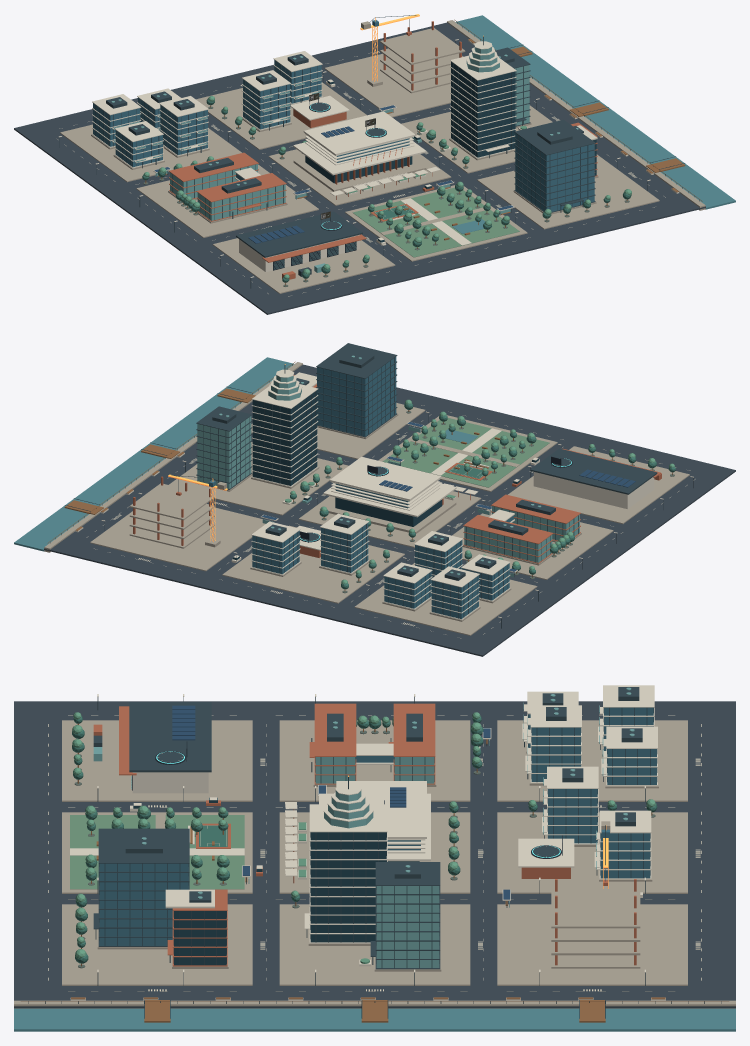
File: CampusDistrict.glb
3 views of the same model, one above another, from view 1: azimuth 30°, elevation 25°; view 2: azimuth 150°, elevation 25°; view 3: azimuth 270°, elevation 25° (orthographic). The views are drawn at different scales.
Parts seen in each view (by area): view 1: Streets_road, Streets_concrete, Residential_glass, Waterfront_water, Residential_porcelain, Commercial_trim, Library_porcelain, Commercial_darkglass, Commercial_glass, Park_grass, Construction_concrete, Logistics_trim (+21 smaller); view 2: Streets_road, Streets_concrete, Residential_glass, Commercial_trim, Waterfront_water, Residential_porcelain, Commercial_darkglass, Library_porcelain, Commercial_glass, Construction_concrete, Park_grass, Commercial_glasslight (+18 smaller); view 3: Streets_road, Streets_concrete, Waterfront_water, Commercial_trim, Commercial_darkglass, Residential_porcelain, Residential_glass, Construction_concrete, Commercial_glass, Commercial_glasslight, Logistics_trim, Waterfront_concrete (+23 smaller).
Part boxes in pixels (bbox=[...]): Streets_road: bbox=[14, 22, 705, 314]; Streets_concrete: bbox=[60, 53, 659, 293]; Residential_glass: bbox=[93, 60, 321, 167]; Waterfront_water: bbox=[456, 15, 735, 209]; Residential_porcelain: bbox=[92, 51, 349, 168]; Commercial_trim: bbox=[453, 36, 595, 212]; Library_porcelain: bbox=[293, 111, 426, 195]; Commercial_darkglass: bbox=[451, 61, 596, 175]; Commercial_glass: bbox=[515, 133, 594, 211]; Park_grass: bbox=[352, 187, 519, 257]; Construction_concrete: bbox=[367, 28, 465, 93]; Logistics_trim: bbox=[236, 211, 362, 276]; Streets_road: bbox=[44, 364, 735, 656]; Streets_concrete: bbox=[90, 403, 689, 635]; Residential_glass: bbox=[252, 523, 509, 618]; Commercial_trim: bbox=[196, 343, 397, 489]; Waterfront_water: bbox=[14, 357, 293, 551]; Residential_porcelain: bbox=[251, 513, 510, 619]; Commercial_darkglass: bbox=[252, 387, 317, 485]; Library_porcelain: bbox=[323, 456, 456, 517]; Commercial_glass: bbox=[317, 357, 396, 436]; Construction_concrete: bbox=[129, 483, 220, 548]; Park_grass: bbox=[382, 418, 549, 487]; Commercial_glasslight: bbox=[197, 355, 361, 488]; Streets_road: bbox=[14, 701, 735, 1008]; Streets_concrete: bbox=[62, 720, 687, 985]; Waterfront_water: bbox=[14, 1008, 735, 1031]; Commercial_trim: bbox=[93, 777, 440, 969]; Commercial_darkglass: bbox=[174, 832, 386, 965]; Residential_porcelain: bbox=[518, 685, 657, 879]; Residential_glass: bbox=[528, 707, 656, 878]; Construction_concrete: bbox=[551, 889, 640, 968]; Commercial_glass: bbox=[99, 863, 188, 945]; Commercial_glasslight: bbox=[141, 790, 439, 967]; Logistics_trim: bbox=[93, 702, 211, 772]; Waterfront_concrete: bbox=[14, 1000, 735, 1008].
Bounding box in the file's own units: 234 × 54.15 × 219.
22 materials, 3 textured.
